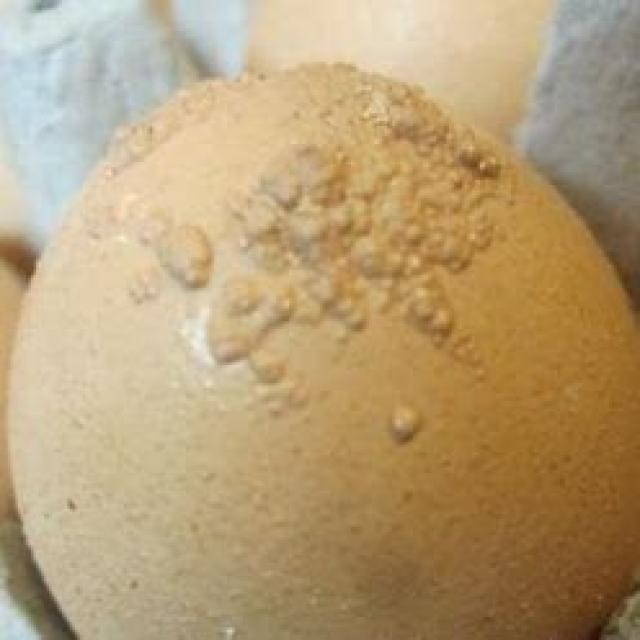Calcium Deposit Egg: (1, 54, 640, 640)
